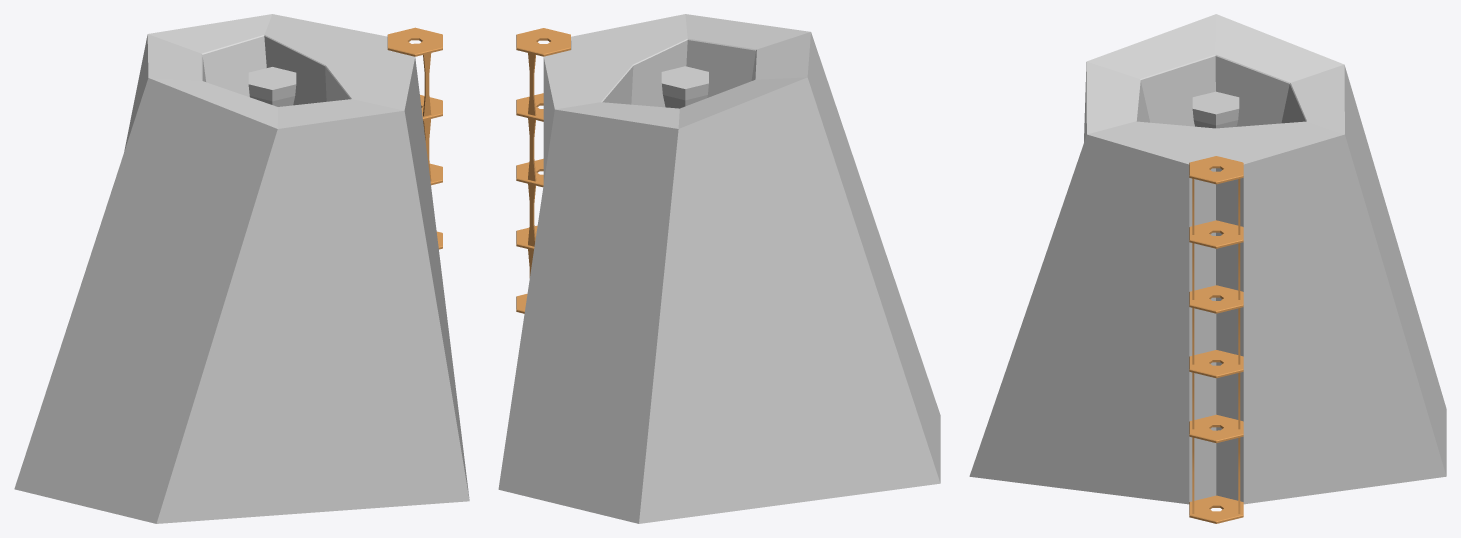
File: Cliff 2.fbx
3 renders of one model, left to right at view 1: azimuth 30°, elevation 25°; view 2: azimuth 150°, elevation 25°; view 3: azimuth 270°, elevation 25°, orthographic. The views are drawn at different scales.
Visible parts, largest first — view 1: polySurface70; view 2: polySurface70; view 3: polySurface70.
Part boxes in pixels (left/top/right/bottom): polySurface70: left=14, top=14, right=469, bottom=523; polySurface70: left=498, top=14, right=940, bottom=523; polySurface70: left=969, top=14, right=1446, bottom=523.
Size of the model in its own units: 7568 by 6381 by 7464.
